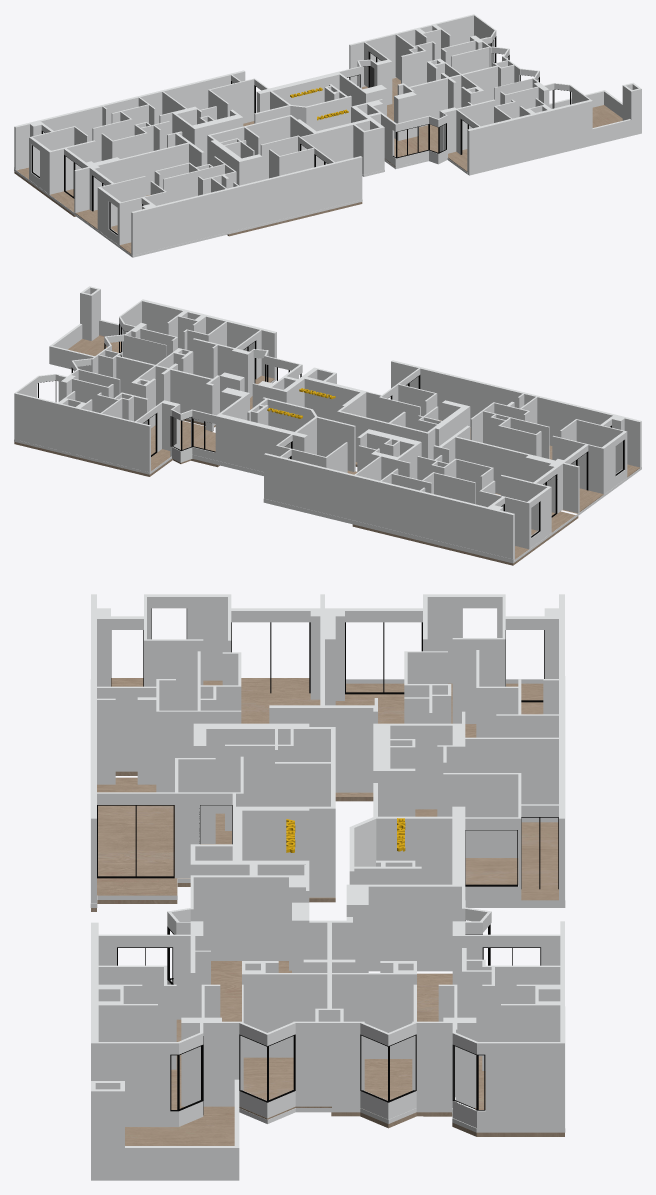
File: planta-6.glb
3 views of the same model, one above another, from view 1: azimuth 30°, elevation 25°; view 2: azimuth 150°, elevation 25°; view 3: azimuth 270°, elevation 25° (orthographic). The views are drawn at different scales.
Visible parts, largest first — view 1: paredes, tipo-20, tipo-3, tipo-2, tipo-1; view 2: paredes, tipo-16, tipo-3, tipo-20, tipo-2; view 3: paredes, tipo-1, tipo-20, tipo-4, tipo-16, tipo-3, tipo-2.
Boxes of the visible parts, x1=… form: paredes: x1=14, y1=14, x2=641, y2=257; tipo-20: x1=385, y1=105, x2=622, y2=171; tipo-3: x1=14, y1=167, x2=75, y2=216; tipo-2: x1=75, y1=194, x2=150, y2=253; tipo-1: x1=227, y1=202, x2=362, y2=236; paredes: x1=14, y1=286, x2=641, y2=563; tipo-16: x1=14, y1=420, x2=219, y2=476; tipo-3: x1=352, y1=511, x2=578, y2=565; tipo-20: x1=68, y1=335, x2=274, y2=427; tipo-2: x1=495, y1=445, x2=639, y2=513; paredes: x1=90, y1=594, x2=565, y2=1180; tipo-1: x1=91, y1=777, x2=335, y2=911; tipo-20: x1=125, y1=961, x2=331, y2=1145; tipo-4: x1=415, y1=809, x2=558, y2=900; tipo-16: x1=331, y1=973, x2=564, y2=1136; tipo-3: x1=335, y1=683, x2=543, y2=801; tipo-2: x1=111, y1=678, x2=320, y2=775.
Size of what is drawn, in the model's own units: 37.7 by 3.53 by 15.22.
Materials: 11 (9 with a texture image).
